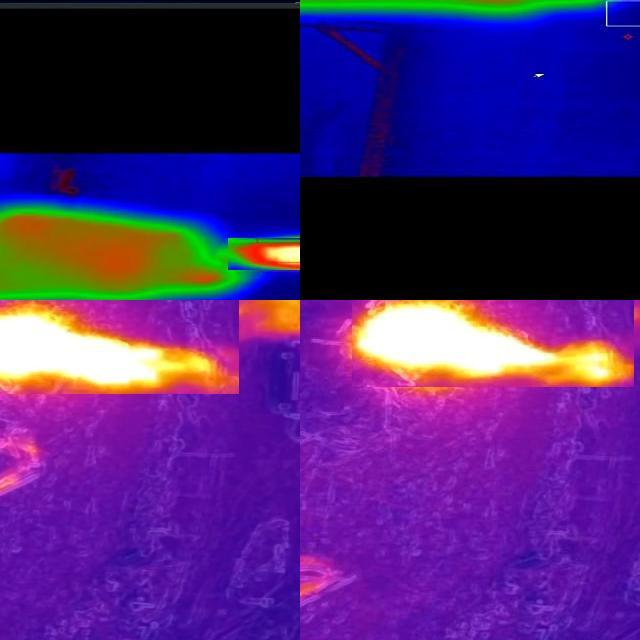fire: (353, 301, 635, 387), (1, 301, 240, 394), (229, 238, 301, 270)
